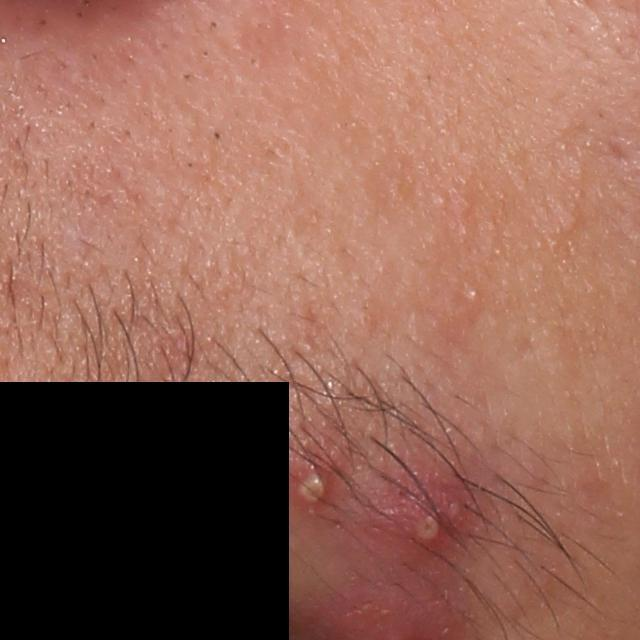comedo: (558, 206, 588, 236)
